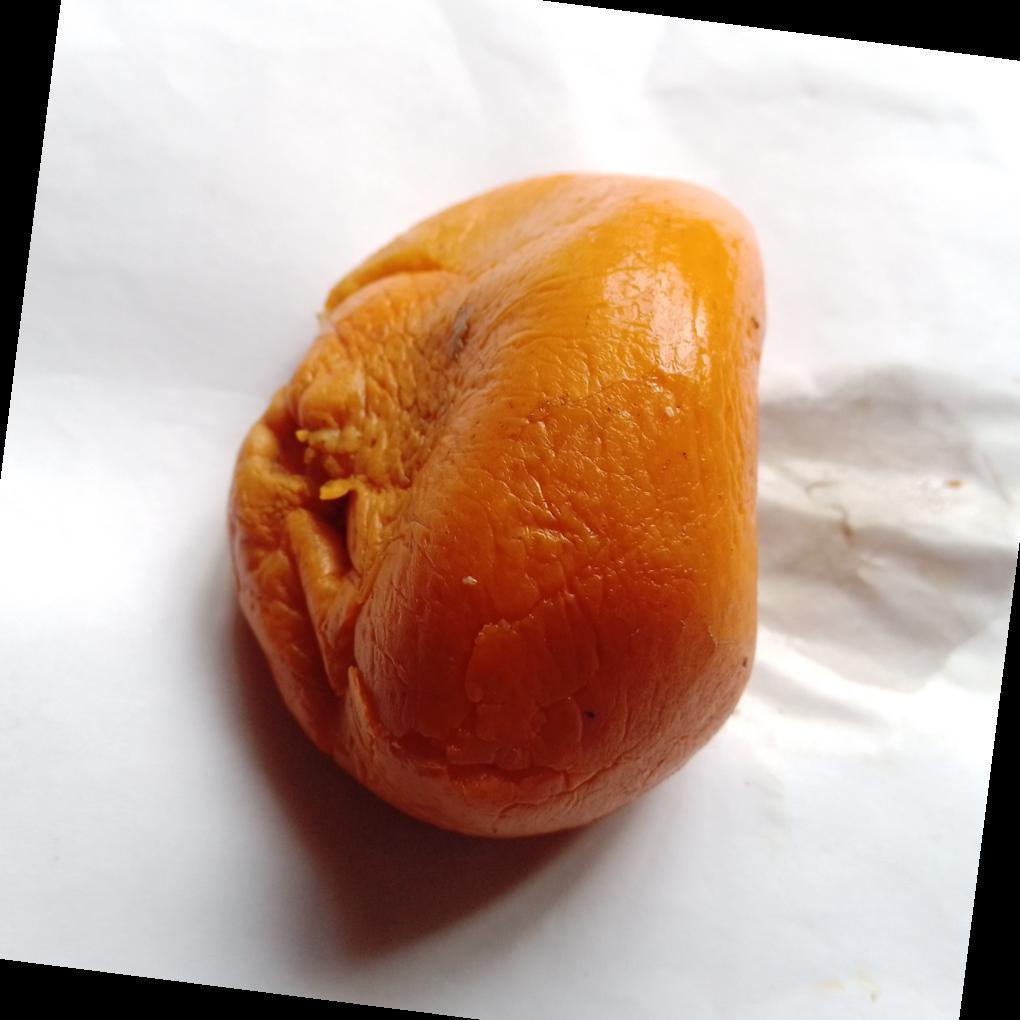FreshOrange: (226, 172, 769, 844)
